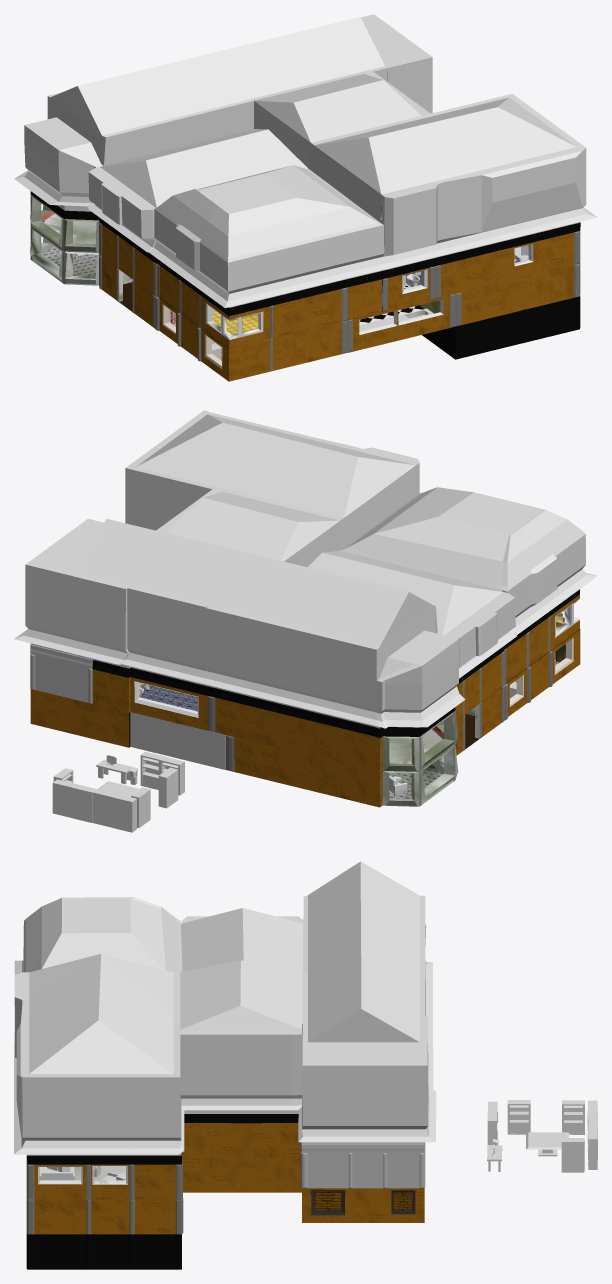
The model's file is House Build Final with textured rooms.fbx.
The picture shows the model from 3 angles, top to bottom: view 1: azimuth 30°, elevation 25°; view 2: azimuth 150°, elevation 25°; view 3: azimuth 270°, elevation 25°; orthographic projection. The views are drawn at different scales.
Parts seen in each view (by area): view 1: roof2, spare bedroom, Dinning room, spare room, Basement, Pantry, Kitchen, Main Bedroom, Living Room, upstairs hallway pt2, Hidden bathroom, Entrance room; view 2: roof2, Main Bedroom, Living Room, bathroom main, Secret secret room, Library, spare bedroom, tourture room, Dinning room, upstairs hallway pt2, Entrance room, bookcase.005 (+5 smaller); view 3: roof2, spare room, Pantry, tourture room, Basement, upstairs hallway pt1, Secret secret room, Downstairs hallway, bookcase.014, Dining Table White box.001, bookcase.015, bookcase.016.
Boxes of the visible parts, x1,y1,x2,y2 form: roof2: (14,14,597,307); spare bedroom: (157,259,382,348); Dinning room: (155,296,347,381); spare room: (381,209,580,298); Basement: (422,292,580,359); Pantry: (455,263,580,326); Kitchen: (347,294,455,352); Main Bedroom: (30,191,99,253); Living Room: (30,227,99,285); upstairs hallway pt2: (99,218,157,296); Hidden bathroom: (381,258,435,311); Entrance room: (99,255,155,328); roof2: (14,410,597,728); Main Bedroom: (207,686,458,772); Living Room: (226,735,458,807); bathroom main: (92,660,207,730); Secret secret room: (30,689,130,747); Library: (130,712,225,769); spare bedroom: (504,589,579,684); tourture room: (30,644,92,703); Dinning room: (504,629,580,720); upstairs hallway pt2: (455,646,504,720); Entrance room: (455,686,504,755); bookcase.005: (112,794,136,832); roof2: (14,861,436,1155); spare room: (26,1153,182,1199); Pantry: (26,1155,183,1234); tourture room: (300,1142,425,1188); Basement: (26,1234,181,1269); upstairs hallway pt1: (182,1114,300,1157); Secret secret room: (302,1188,424,1222); Downstairs hallway: (182,1158,301,1192); bookcase.014: (561,1138,584,1172); Dining Table White box.001: (526,1132,569,1156); bookcase.015: (507,1100,530,1134); bookcase.016: (562,1100,584,1134).
Size of the model in its own units: 3798 by 1946 by 4519.
